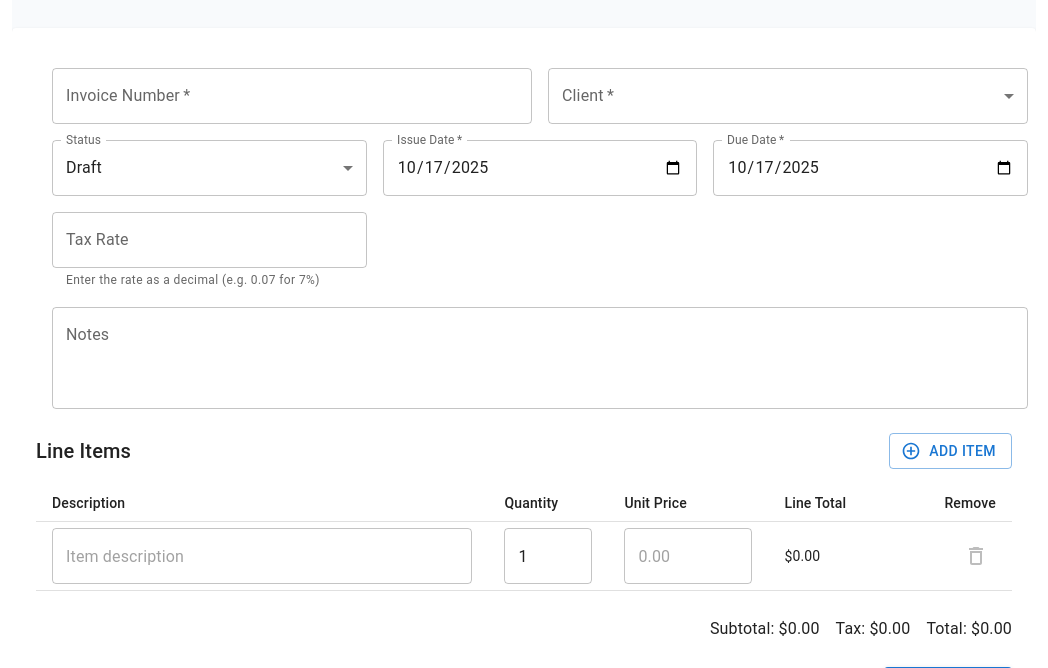
Test case: InvoiceFormPage › creates a new invoice and navigates to the detail view
The width and height of the screenshot is (1048, 668).
In the field labelled "Invoice Number *": (292, 96) [52,68,532,124], type "INV-001"
Click the dropdown named "client": click(788, 96) [548,68,1028,124]
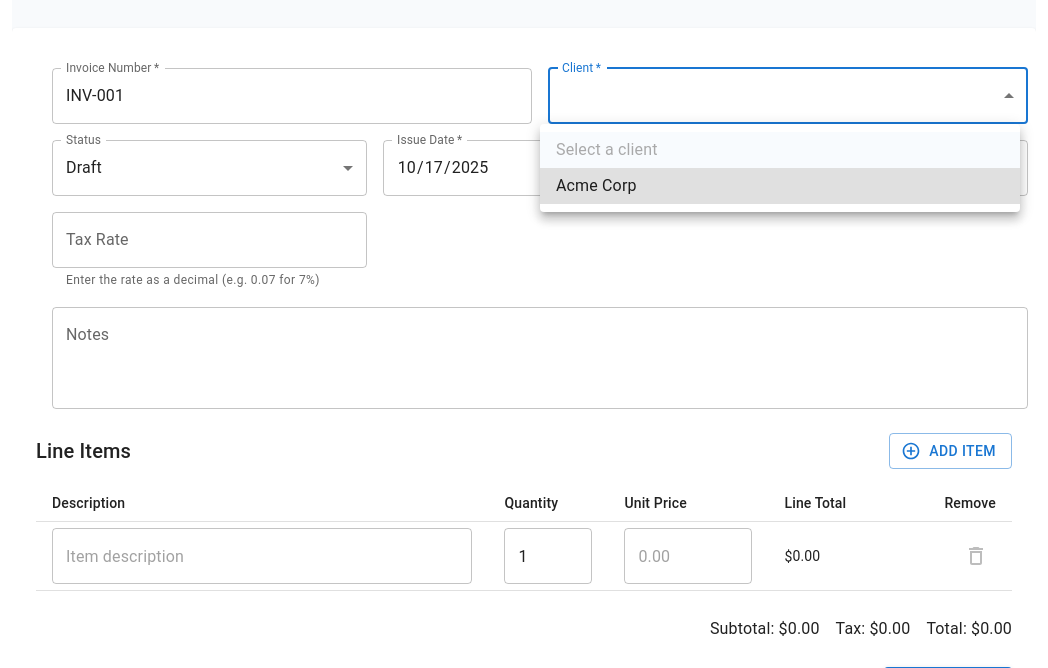
Click the option "Acme Corp": click(596, 186) [540,168,1020,204]
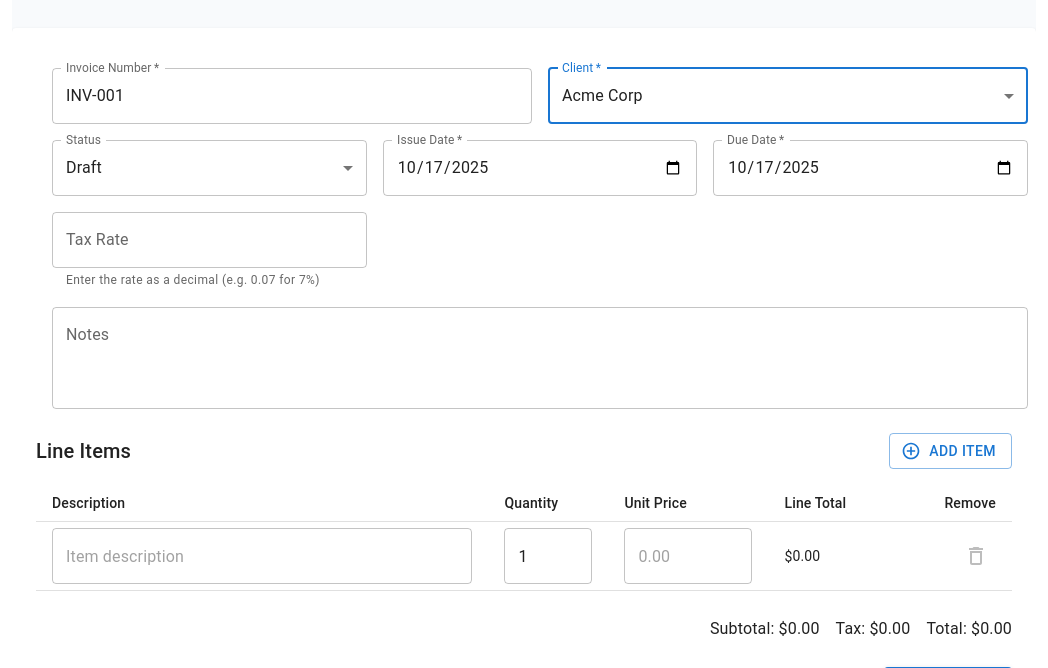
In the field with placeholder "Item description": (262, 556) [52,528,472,584], type "Consulting services"
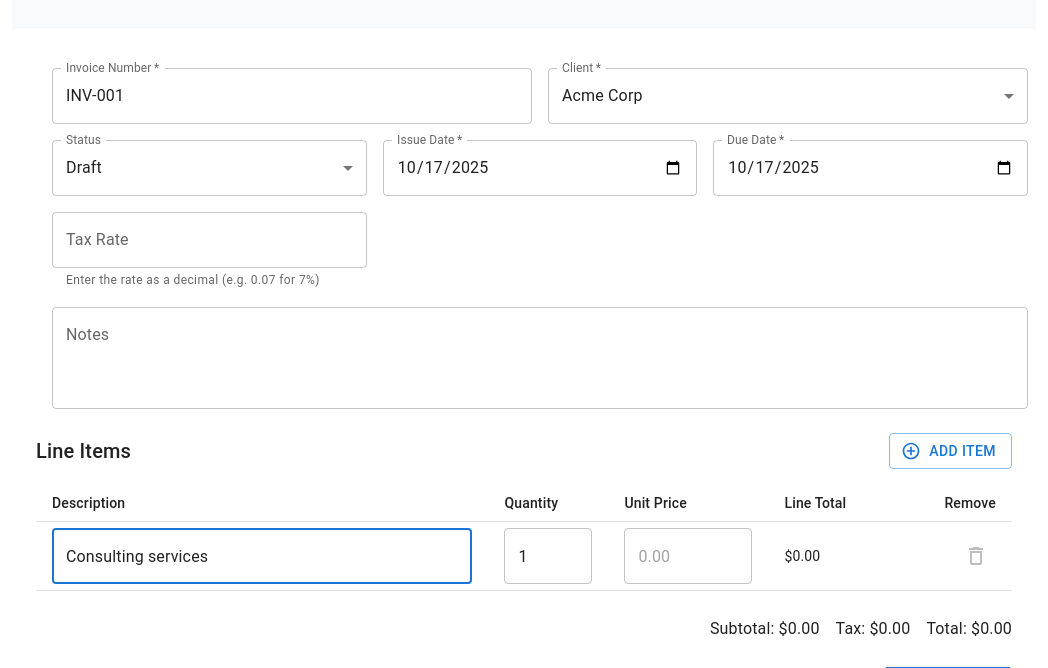
In the field with placeholder "0.00": (688, 556) [624,528,752,584], type "100.00"
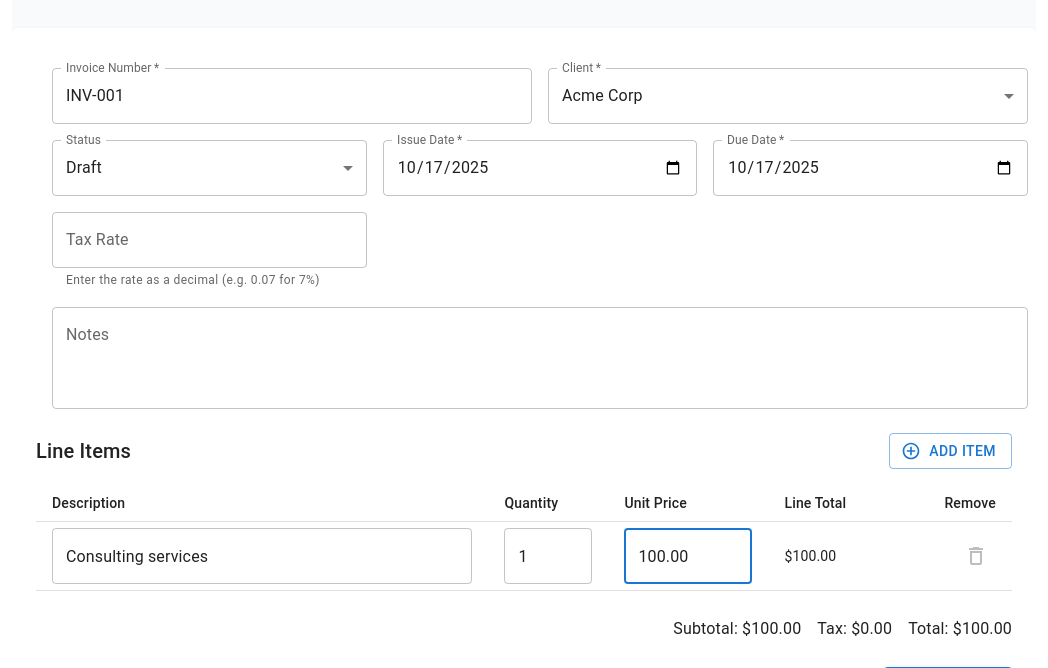
In the field labelled "Tax Rate": (209, 240) [52,212,367,268], type "0.07"
(page scrolled)
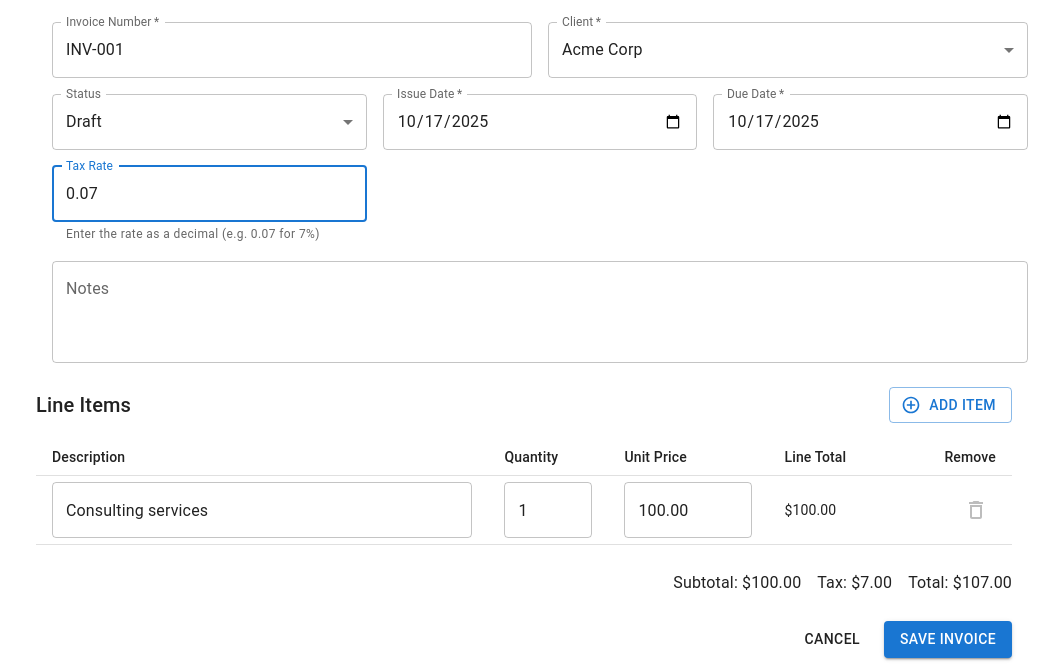
Click the button "Save Invoice": click(948, 640) [884,621,1012,658]
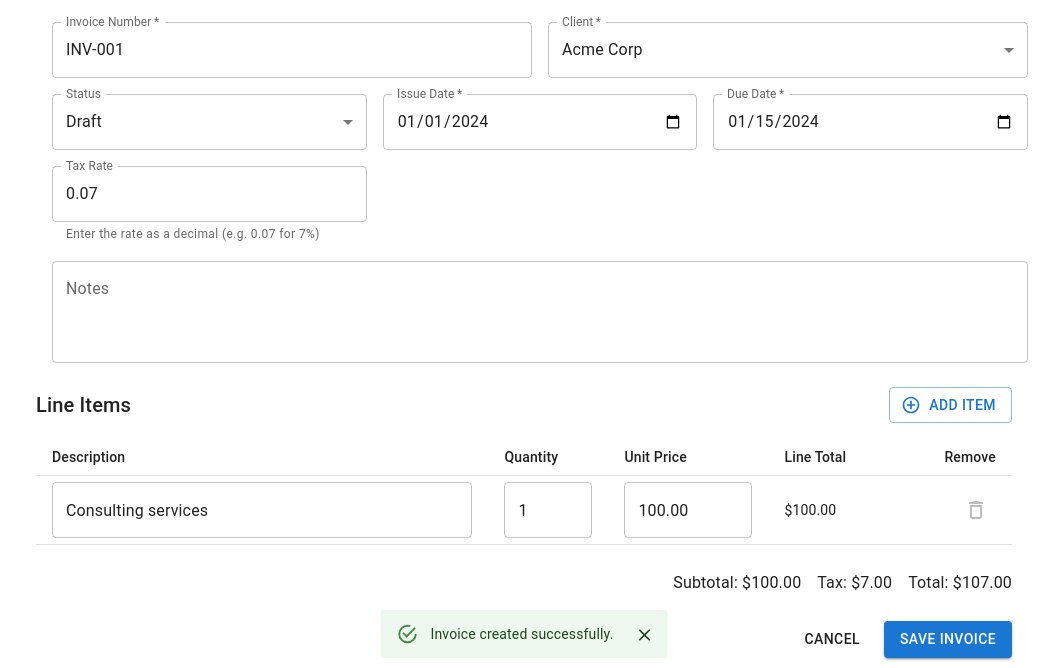
Expected: the text "Invoice created successfully." is shown, [430,626,614,642]
